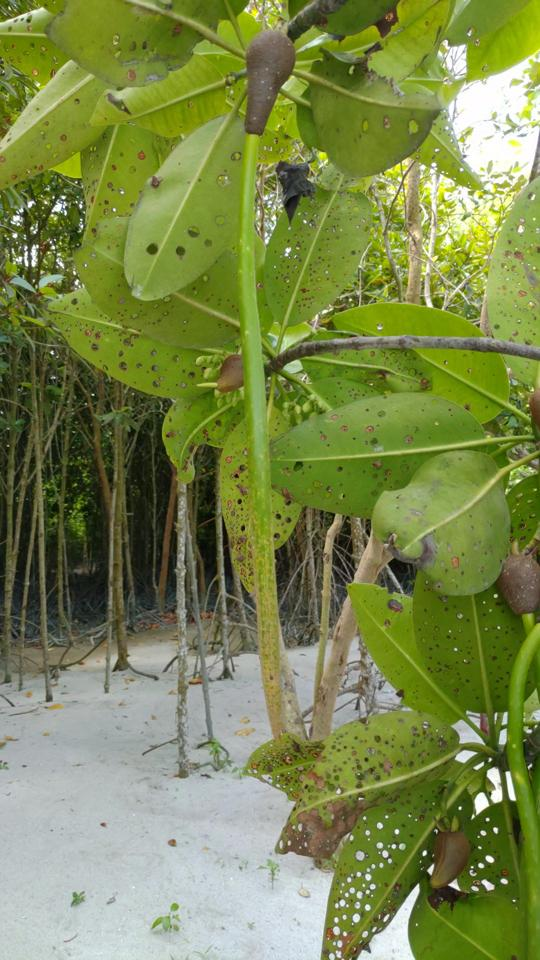mentah: (217, 7, 322, 764)
